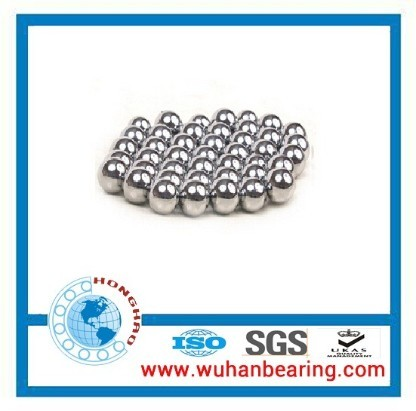ironball: (178, 178, 208, 216), (147, 177, 177, 214), (122, 166, 151, 204), (96, 157, 126, 193), (209, 177, 238, 214), (265, 167, 294, 203), (239, 176, 266, 212), (279, 143, 305, 177), (283, 132, 309, 158), (154, 109, 181, 133), (163, 144, 190, 166), (251, 138, 277, 160), (111, 136, 137, 157), (135, 146, 161, 167), (155, 168, 181, 189), (187, 155, 214, 175), (212, 165, 240, 184), (200, 132, 224, 154), (120, 125, 145, 146), (257, 126, 282, 147), (170, 132, 195, 153), (216, 153, 242, 173), (212, 107, 236, 128), (148, 123, 172, 144), (230, 129, 254, 150), (160, 157, 184, 178), (107, 149, 132, 169), (141, 135, 166, 155), (240, 163, 266, 182), (207, 121, 231, 141), (192, 144, 217, 163), (267, 153, 292, 172), (131, 158, 156, 177), (185, 169, 210, 188), (127, 115, 150, 135), (181, 121, 204, 141), (258, 113, 282, 132), (224, 141, 248, 160), (188, 113, 210, 131), (236, 119, 258, 136), (282, 121, 305, 137), (244, 153, 266, 169), (236, 109, 257, 124)
